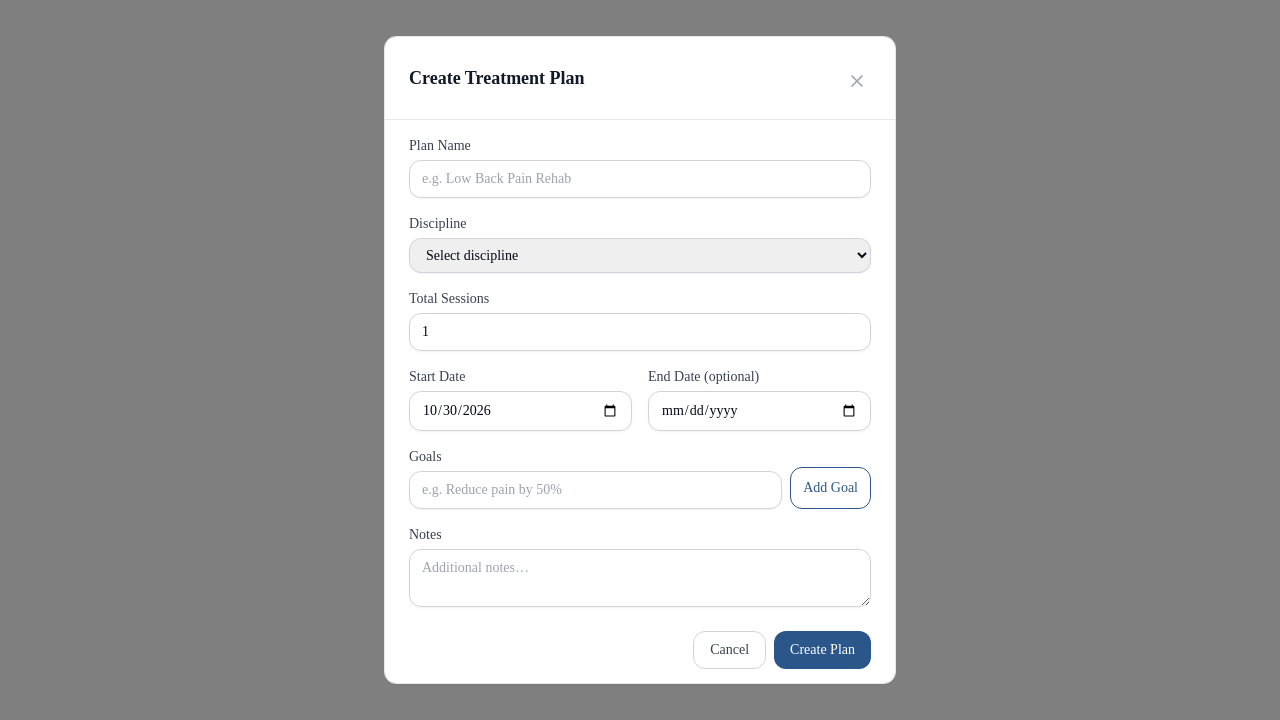
CreatePlanModal › blocks an invalid plan (no name, zero sessions, end before start) with no request
Replace the text in the number field named "totalSessions" with "0" at (640, 332), box [409,313,871,351]
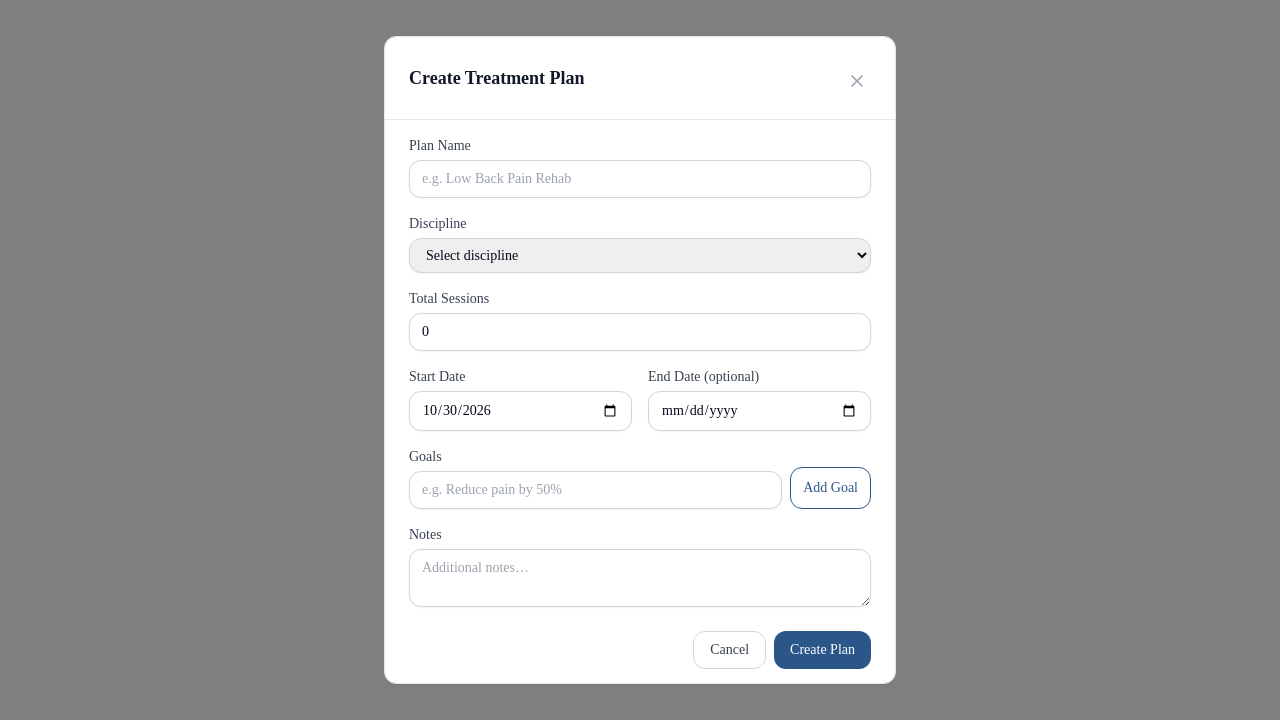
Type "2000-01-01" into the date field named "endDate" below "End Date (optional)" at (760, 411), box [648,391,871,431]
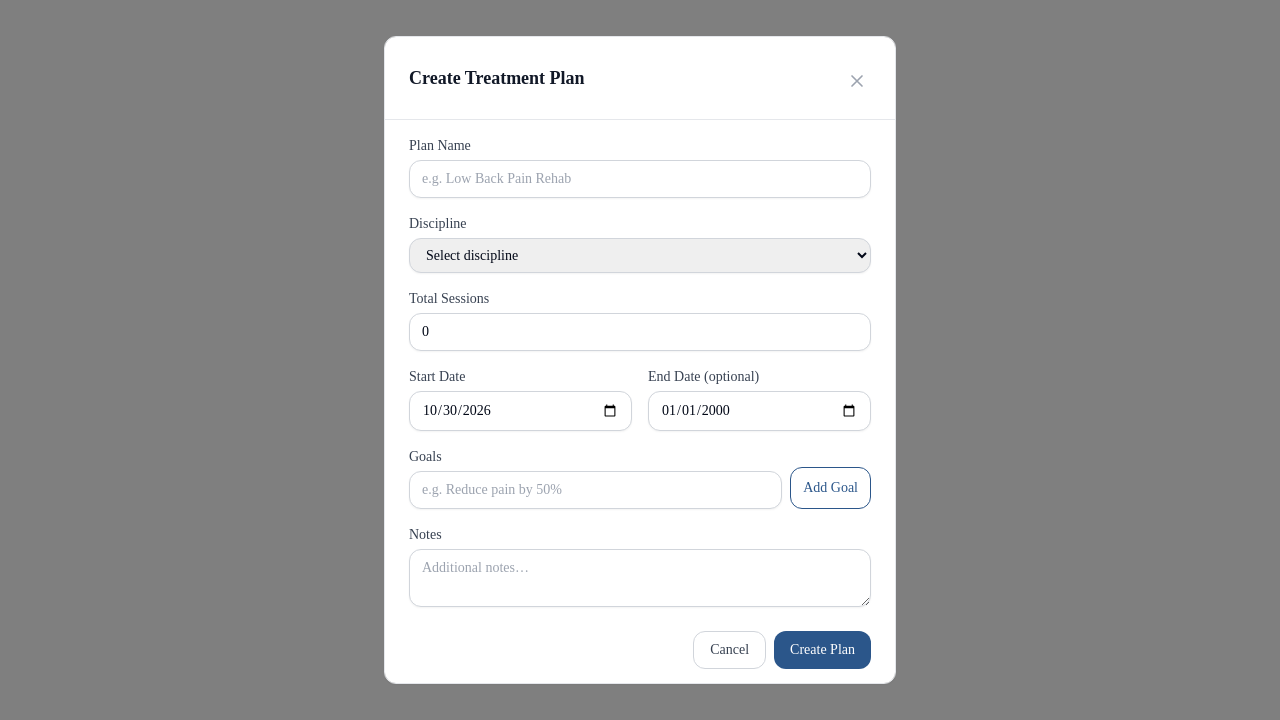
Submit the form, box [409,136,871,669]
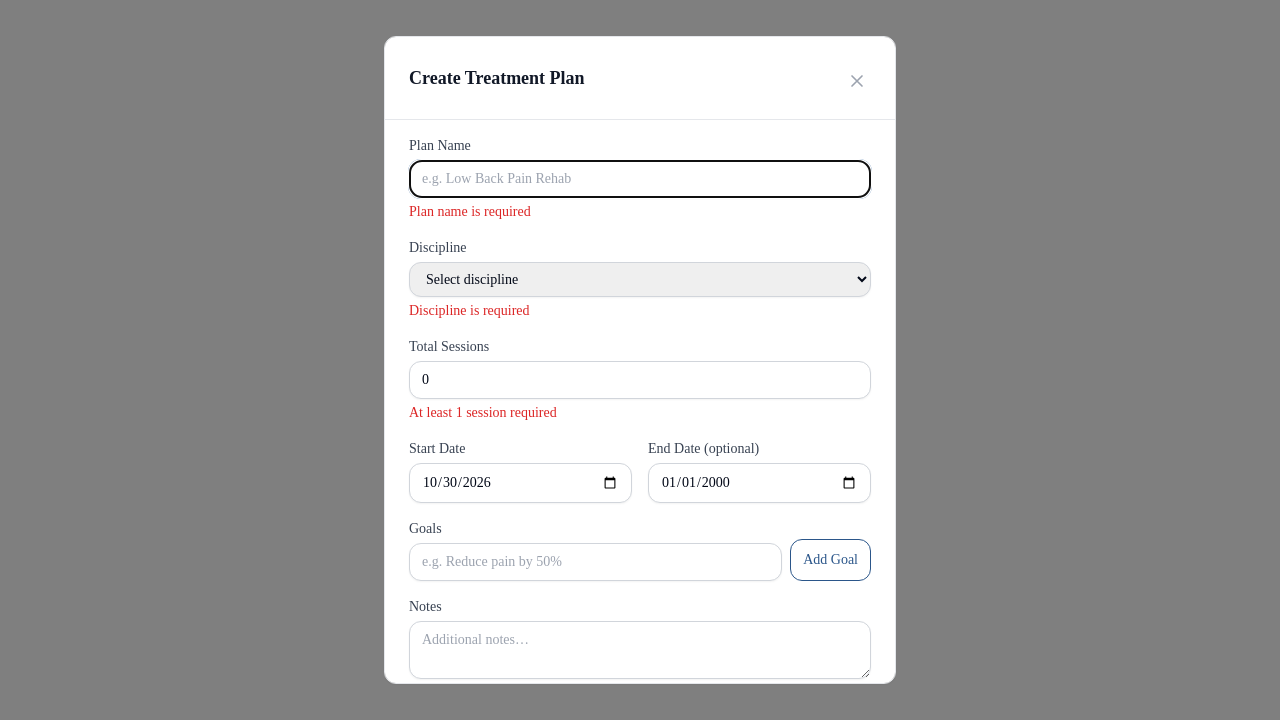
Check: the text "Plan name is required" is shown, box [409,204,531,219]
Check: the text "At least 1 session required" is shown, box [409,405,557,420]
